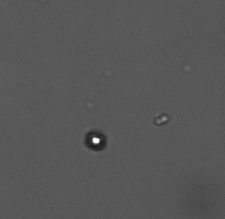Living Cell: (84, 128, 106, 150)
